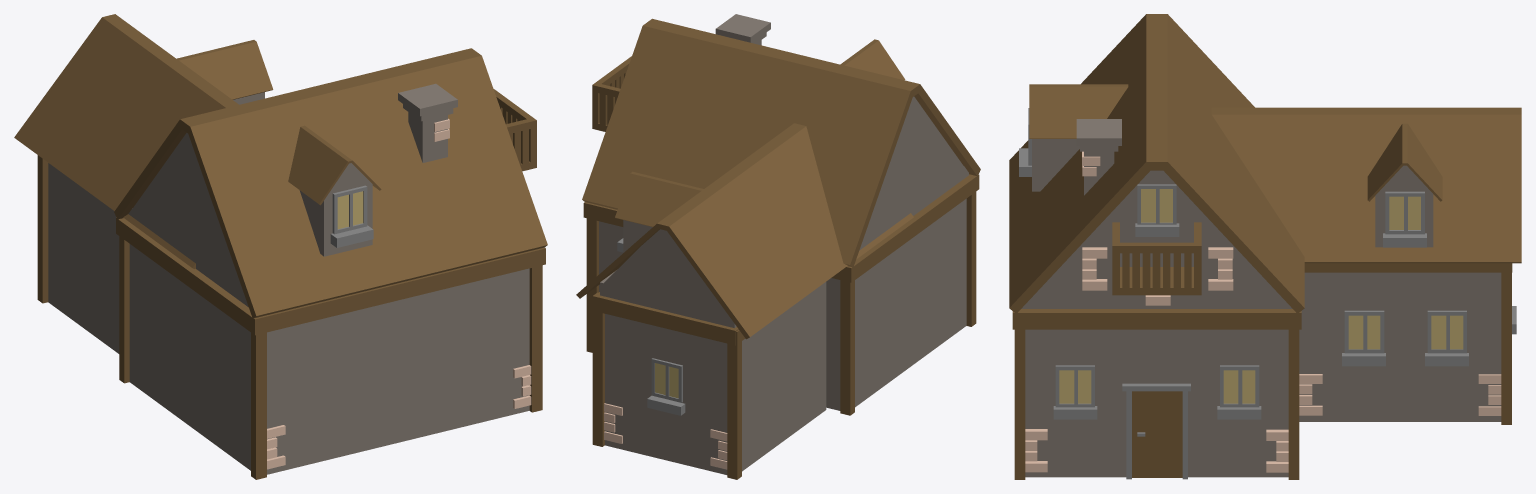
File: country_house_1.fbx
3 views of the same model, side by side, from view 1: azimuth 30°, elevation 25°; view 2: azimuth 150°, elevation 25°; view 3: azimuth 270°, elevation 25° (orthographic). The views are drawn at different scales.
Parts seen in each view (by area): view 1: wooden_parts, walls, decor, windows, glass; view 2: wooden_parts, walls, windows, decor, glass; view 3: wooden_parts, walls, windows, glass, decor.
Boxes of the visible parts, x1,y1,x2,y2 form: wooden_parts: [14, 14, 547, 479]; walls: [48, 83, 529, 474]; decor: [267, 118, 531, 469]; windows: [330, 185, 373, 247]; glass: [337, 191, 363, 229]; wooden_parts: [576, 18, 980, 479]; walls: [599, 14, 968, 474]; windows: [617, 238, 685, 415]; decor: [604, 403, 727, 469]; glass: [655, 363, 678, 398]; wooden_parts: [1009, 14, 1521, 479]; walls: [1021, 119, 1501, 477]; windows: [1019, 108, 1516, 479]; glass: [1059, 189, 1463, 403]; decor: [1025, 151, 1501, 472].
Size of the model in its own units: 830 by 738 by 1073.
